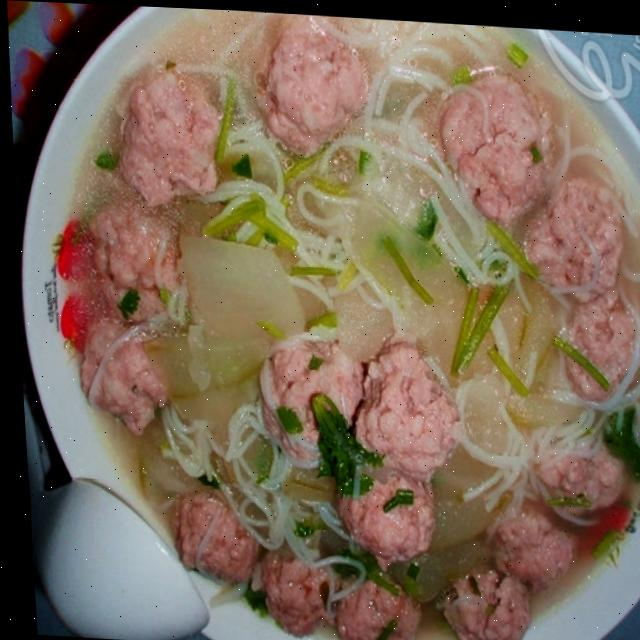汤锅炖物: (16, 1, 640, 640)
